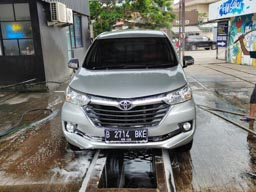plat: (104, 129, 147, 138)
